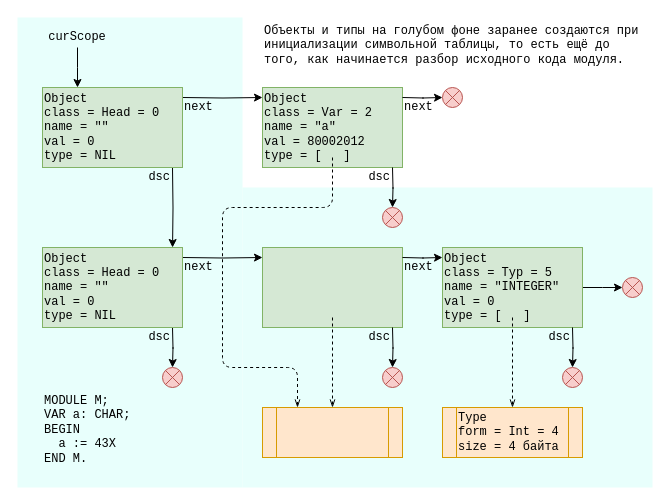
Some shapes in this 669 by 504 pixel diagram are drawn without their labels. The centre of each missing label's shape, as x and y in pixels:
Object class = Typ = 5 name = "CHAR" val = 0 type = [ ]: (x=332, y=287)
Type form = Char = 3 size = 1 байт: (x=332, y=432)
